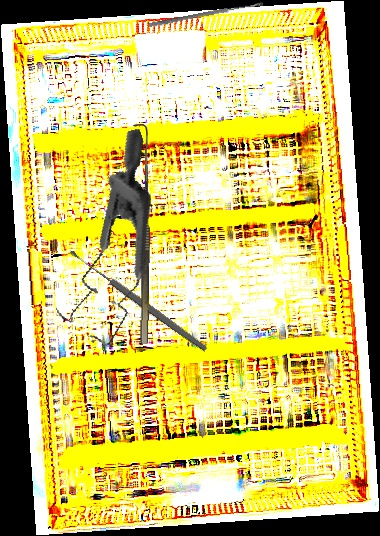Hook Surgical: (129, 123, 152, 345)
Speculum: (10, 127, 201, 358)
Surgical Spoon: (67, 247, 210, 354), (148, 0, 264, 29)
